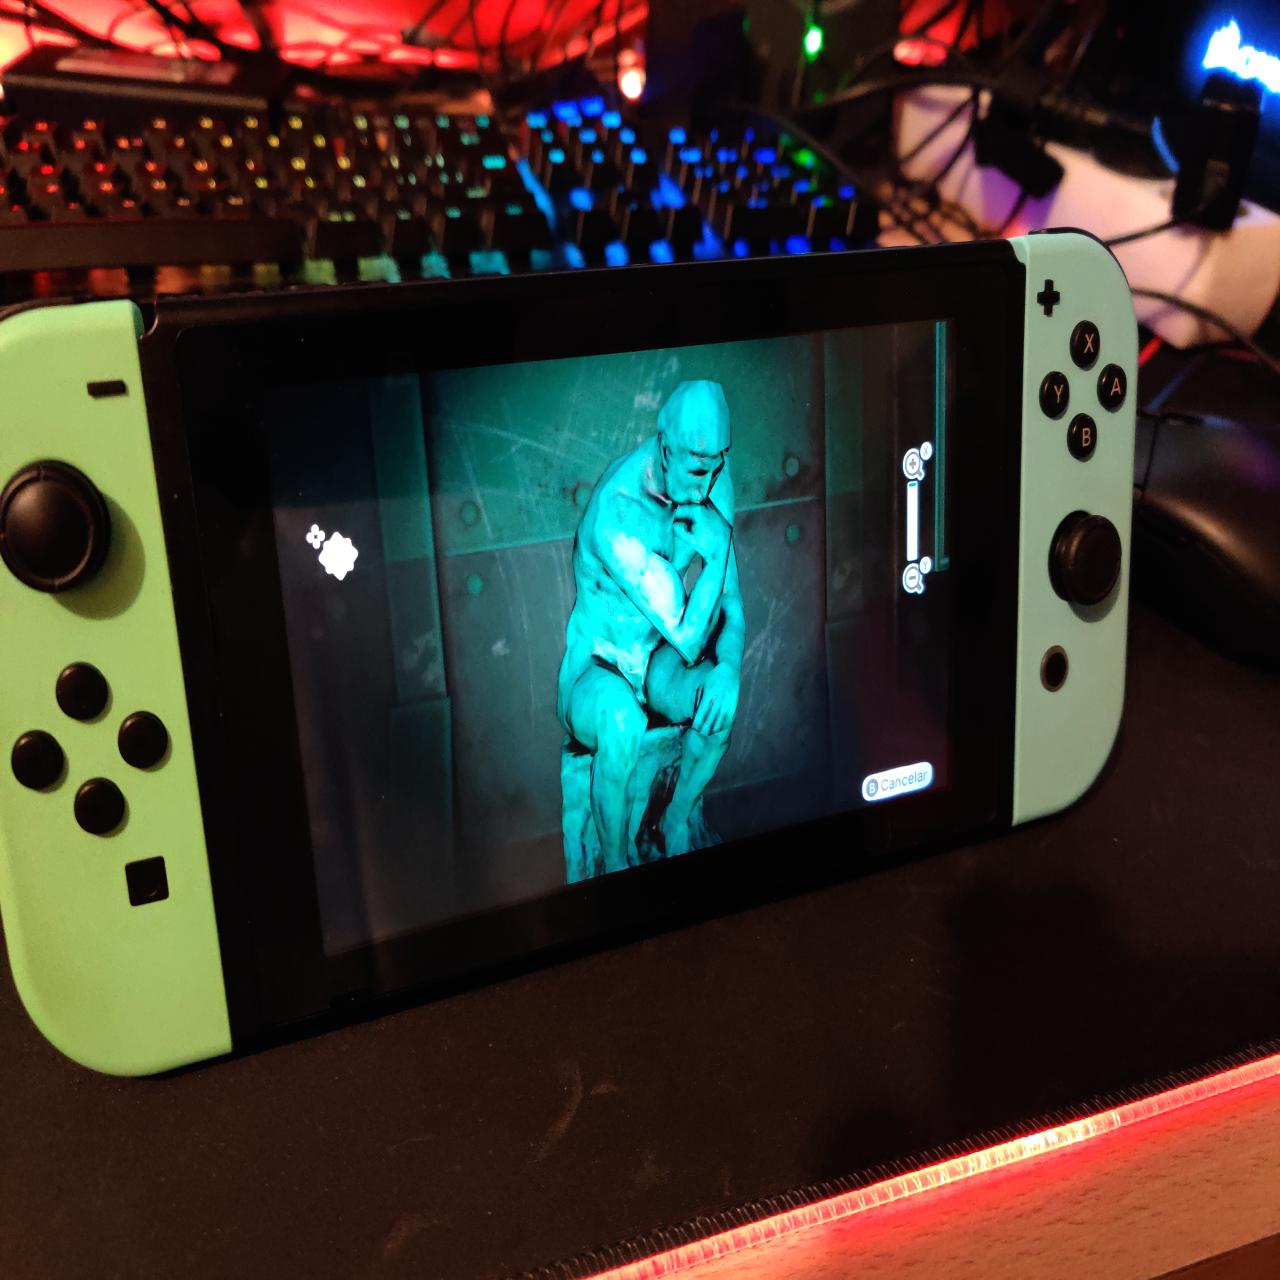Thinker: (552, 372, 754, 886)
